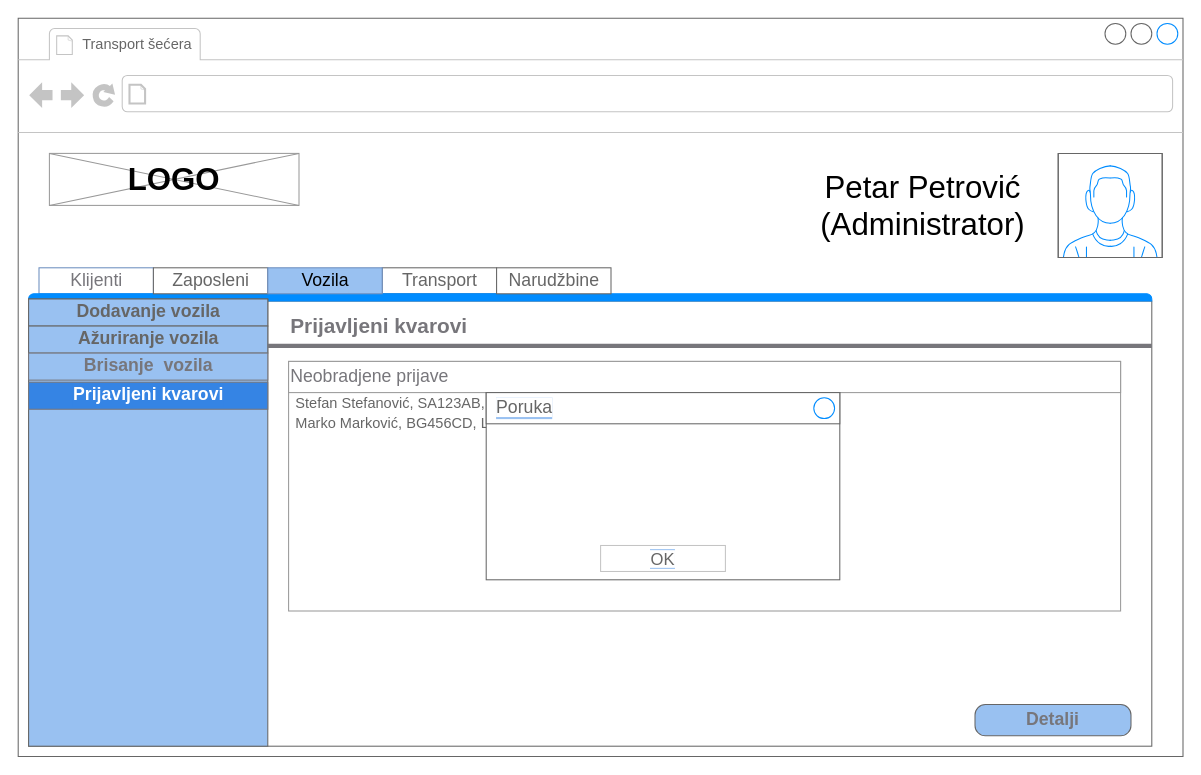
The diagram is 1201 pixels wide and 775 high, and some of its shapes have lost their labels. Each missing label, with the centre of its shape:
"https://www.transportsecera.com/admin/vozila" belongs at (386,94).
"Vozilo za pretovar poslato." belongs at (662,486).
